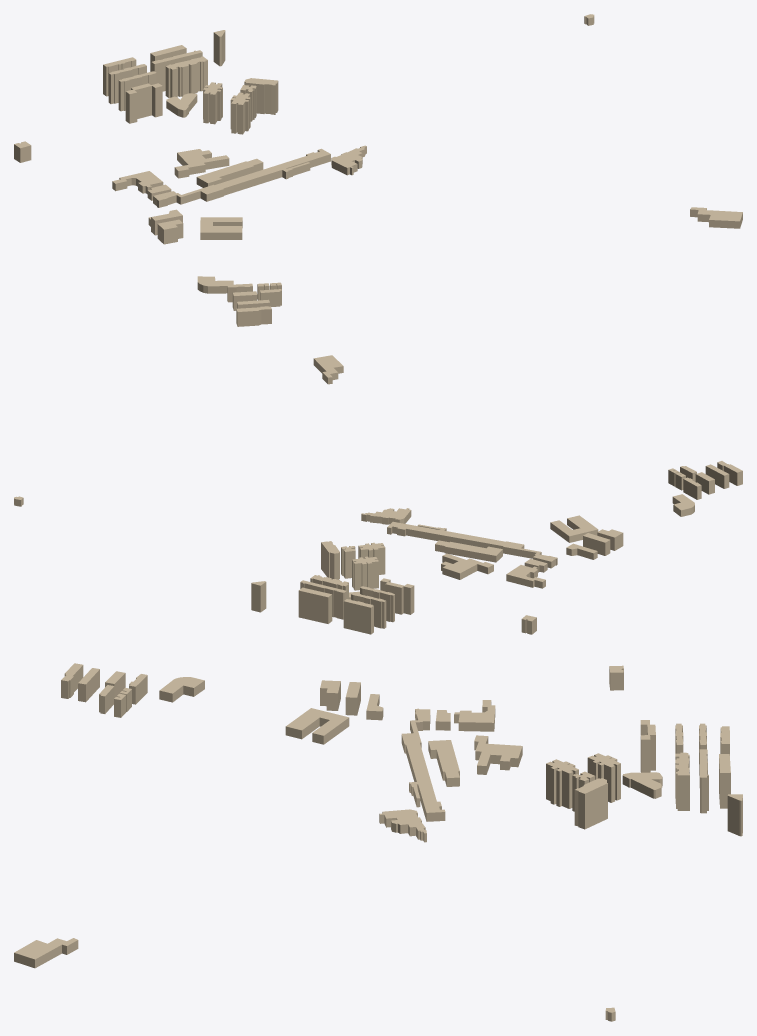
File: 12_1-estimated-coarse.glb
3 views of the same model, one above another, from view 1: azimuth 30°, elevation 25°; view 2: azimuth 150°, elevation 25°; view 3: azimuth 270°, elevation 25° (orthographic). The views are drawn at different scales.
Size of the model in its own units: 985 by 48 by 890.
